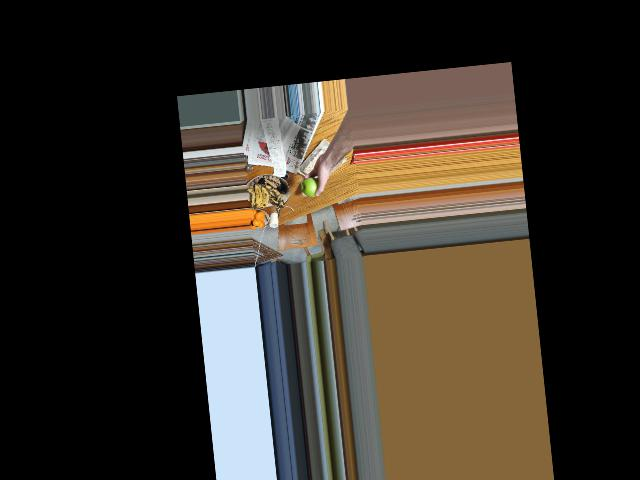apple: (300, 174, 324, 200)
